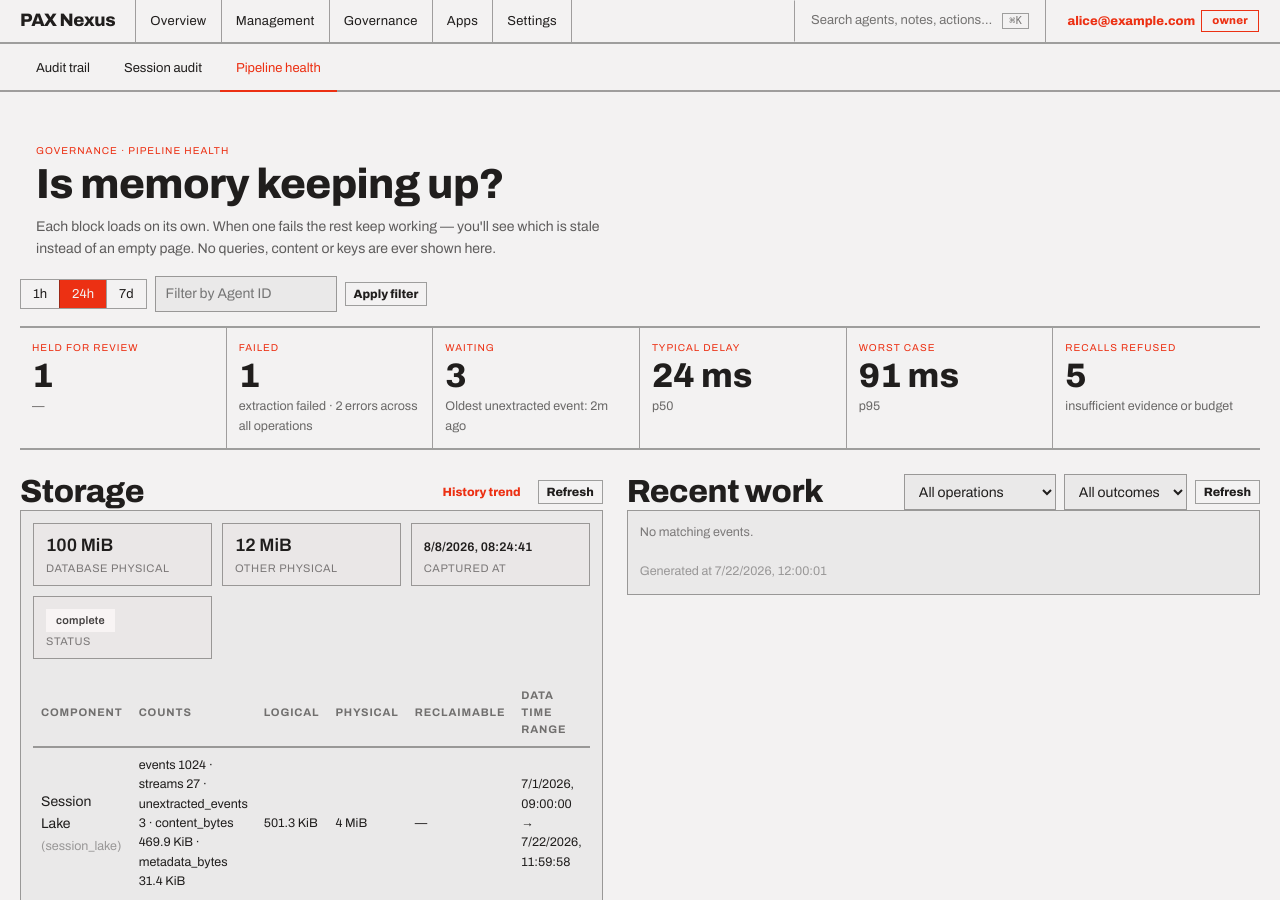
section 12 item 14: storage complete, partial, stale, 503 and empty history are distinct › history loads only on demand and an empty history is its own state
Expected: the heading "Is memory keeping up?" is shown, [36, 161, 504, 207]
Click the button "History trend": (482, 492) [434, 480, 530, 504]
(page scrolled)
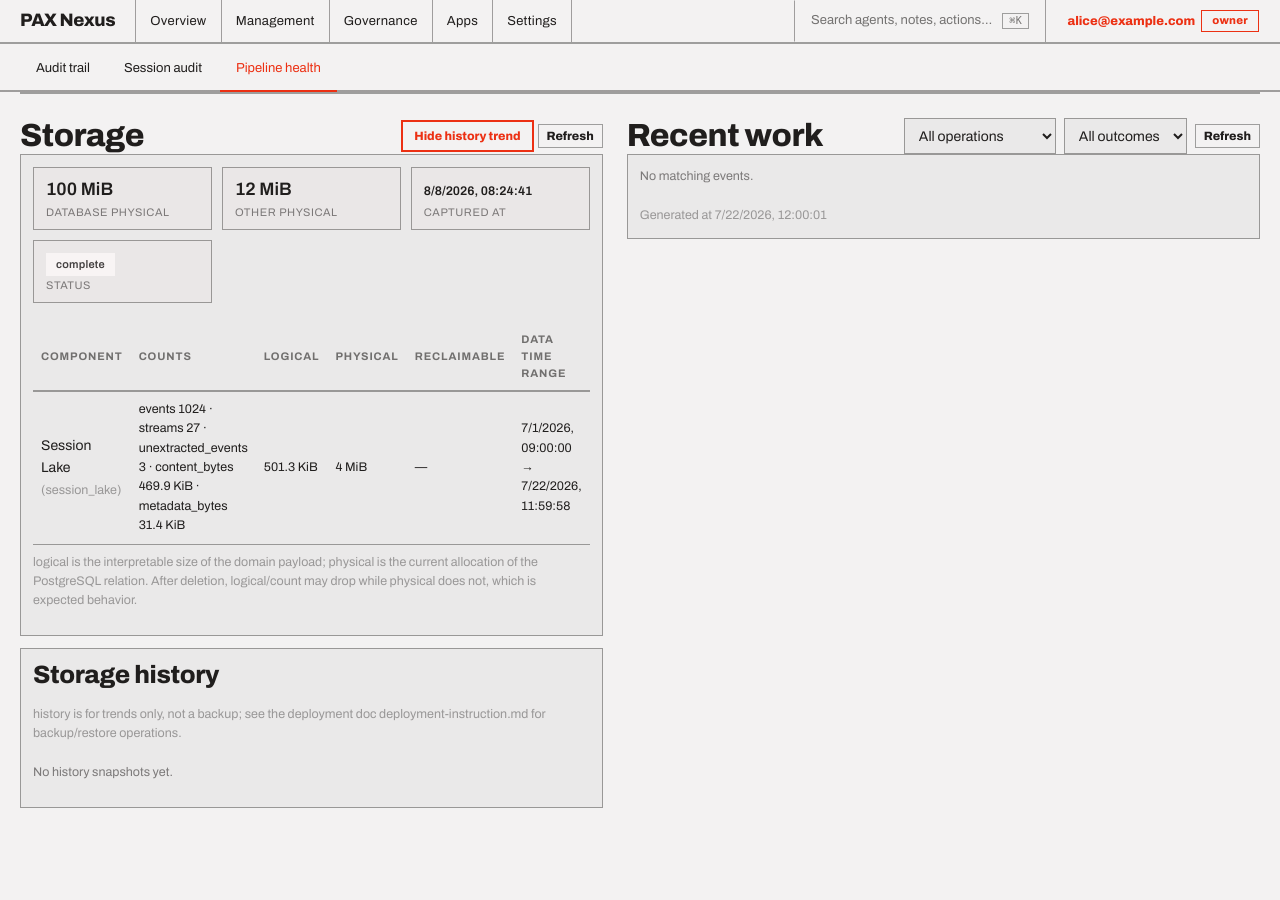
Result: the text "No history snapshots yet." is shown at [33, 765, 173, 779]
